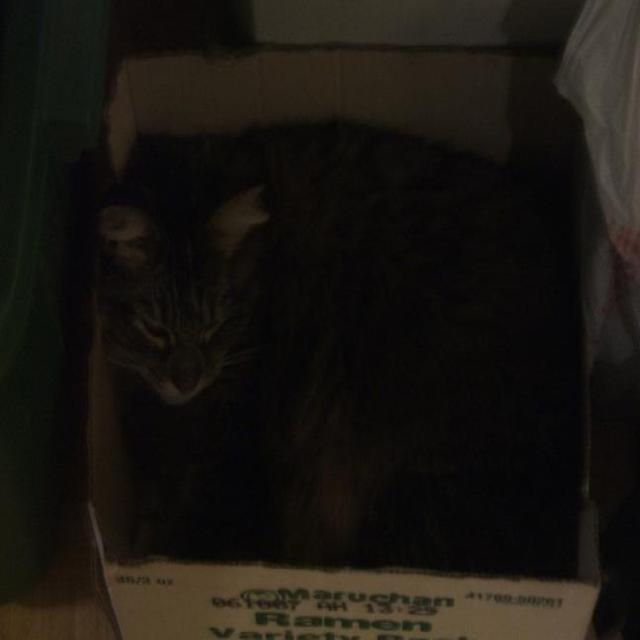Cat: (94, 104, 580, 586)
